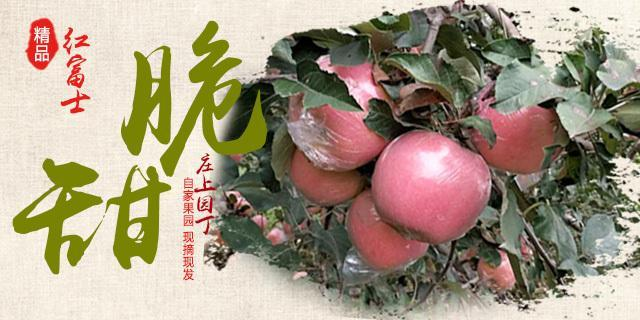apple: (373, 132, 490, 244), (289, 55, 395, 169), (469, 85, 566, 170), (480, 251, 516, 292)
